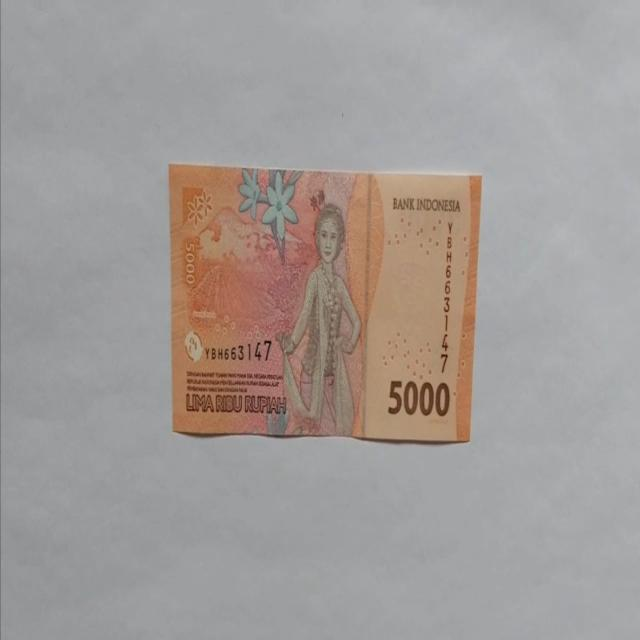lima ribu rupiah: (168, 162, 482, 442), (275, 202, 362, 436)
